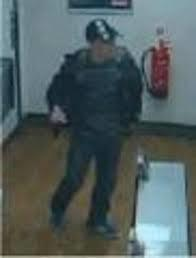weapon: (47, 117, 67, 142)
